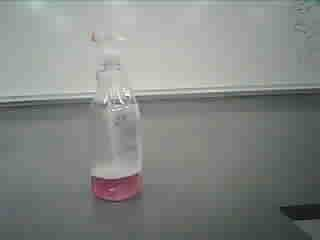hazard: (78, 26, 153, 208)
